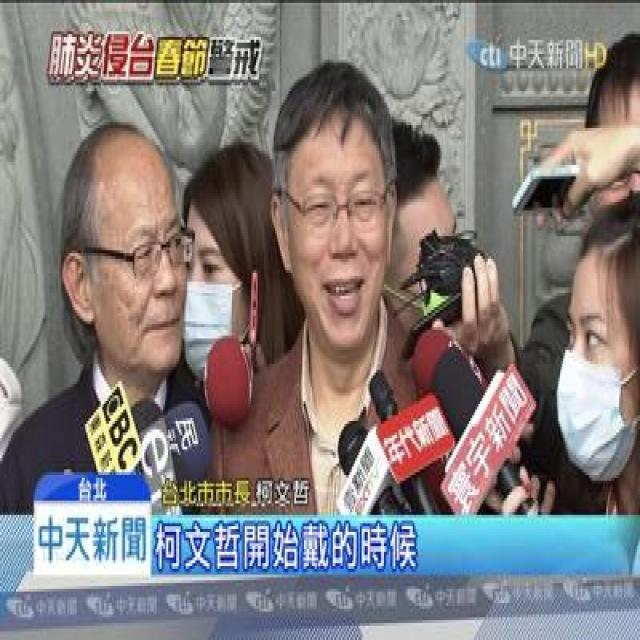with_mask: (555, 303, 636, 473), (179, 240, 248, 385)
without_mask: (289, 158, 388, 357), (88, 203, 184, 385)
